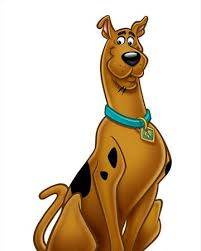scooby: (31, 15, 173, 251)
